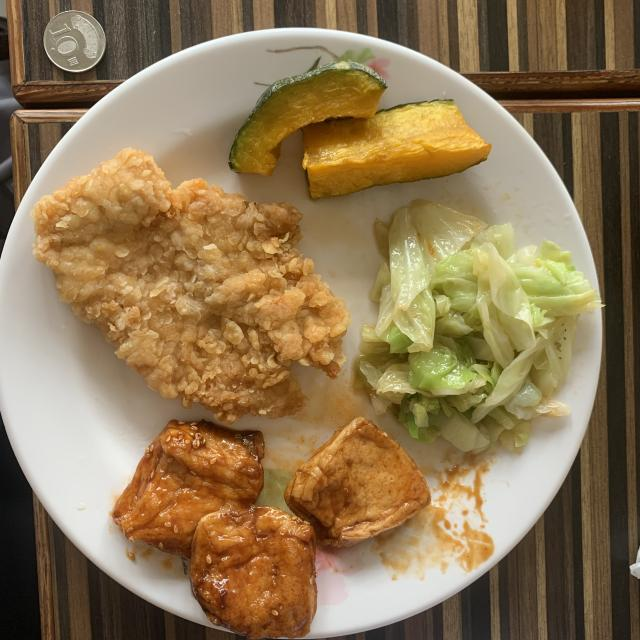cabbage: (356, 201, 601, 452)
coin: (44, 10, 106, 72)
creamy tofu: (112, 418, 430, 639)
fried chicken cutlet: (31, 148, 350, 424)
pumpkin: (229, 60, 491, 199)
